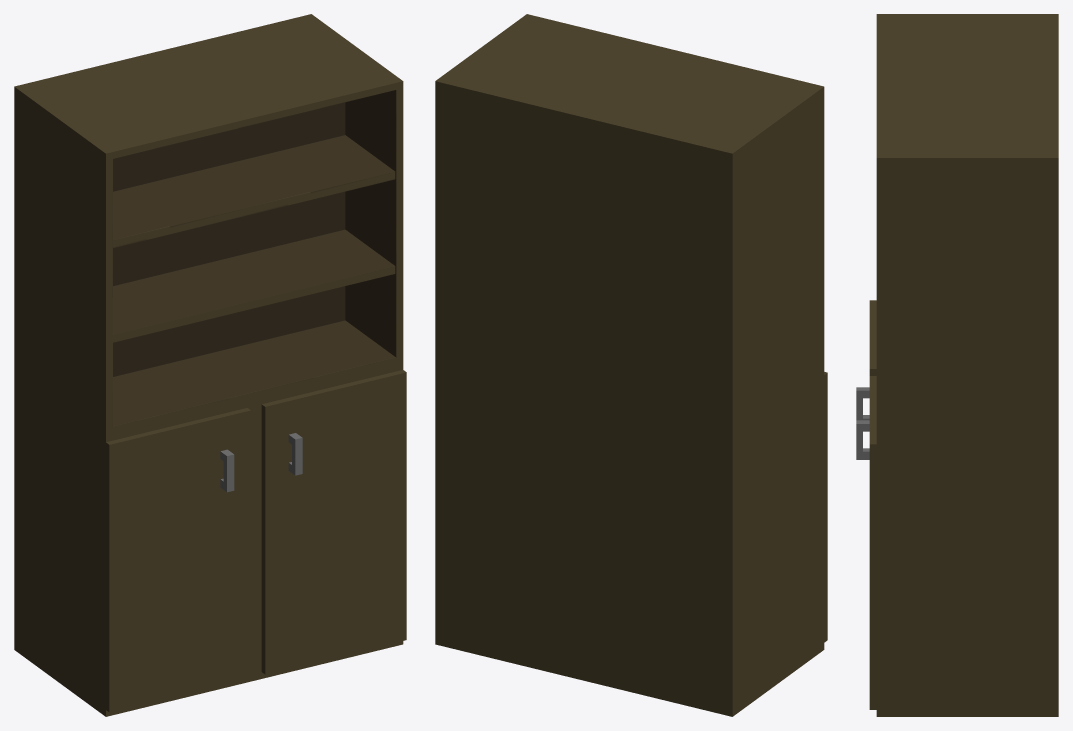
The model's file is wardrobe.fbx.
3 views of the same model, side by side, from view 1: azimuth 30°, elevation 25°; view 2: azimuth 150°, elevation 25°; view 3: azimuth 270°, elevation 25° (orthographic).
Visible parts, largest first — view 1: pCube88, pCube91, pCube92, pCube89; view 2: pCube88; view 3: pCube88, pCube89.
Part boxes in pixels (x1=…): pCube88: x1=14, y1=14, x2=406, y2=716; pCube91: x1=113, y1=229, x2=395, y2=342; pCube92: x1=113, y1=135, x2=395, y2=247; pCube89: x1=220, y1=433, x2=302, y2=492; pCube88: x1=435, y1=14, x2=827, y2=716; pCube88: x1=869, y1=14, x2=1058, y2=716; pCube89: x1=856, y1=387, x2=869, y2=459.
Bounding box in the file's own units: 1.08 × 1.96 × 0.6438.
